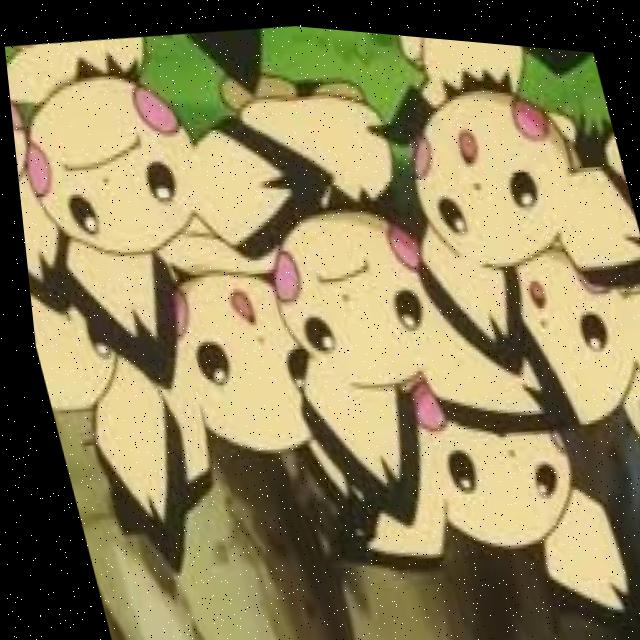pichu: (366, 49, 635, 319), (238, 180, 477, 439), (119, 243, 367, 487), (3, 39, 233, 285), (377, 385, 601, 597), (22, 272, 192, 549), (4, 48, 64, 258), (605, 315, 640, 502)
